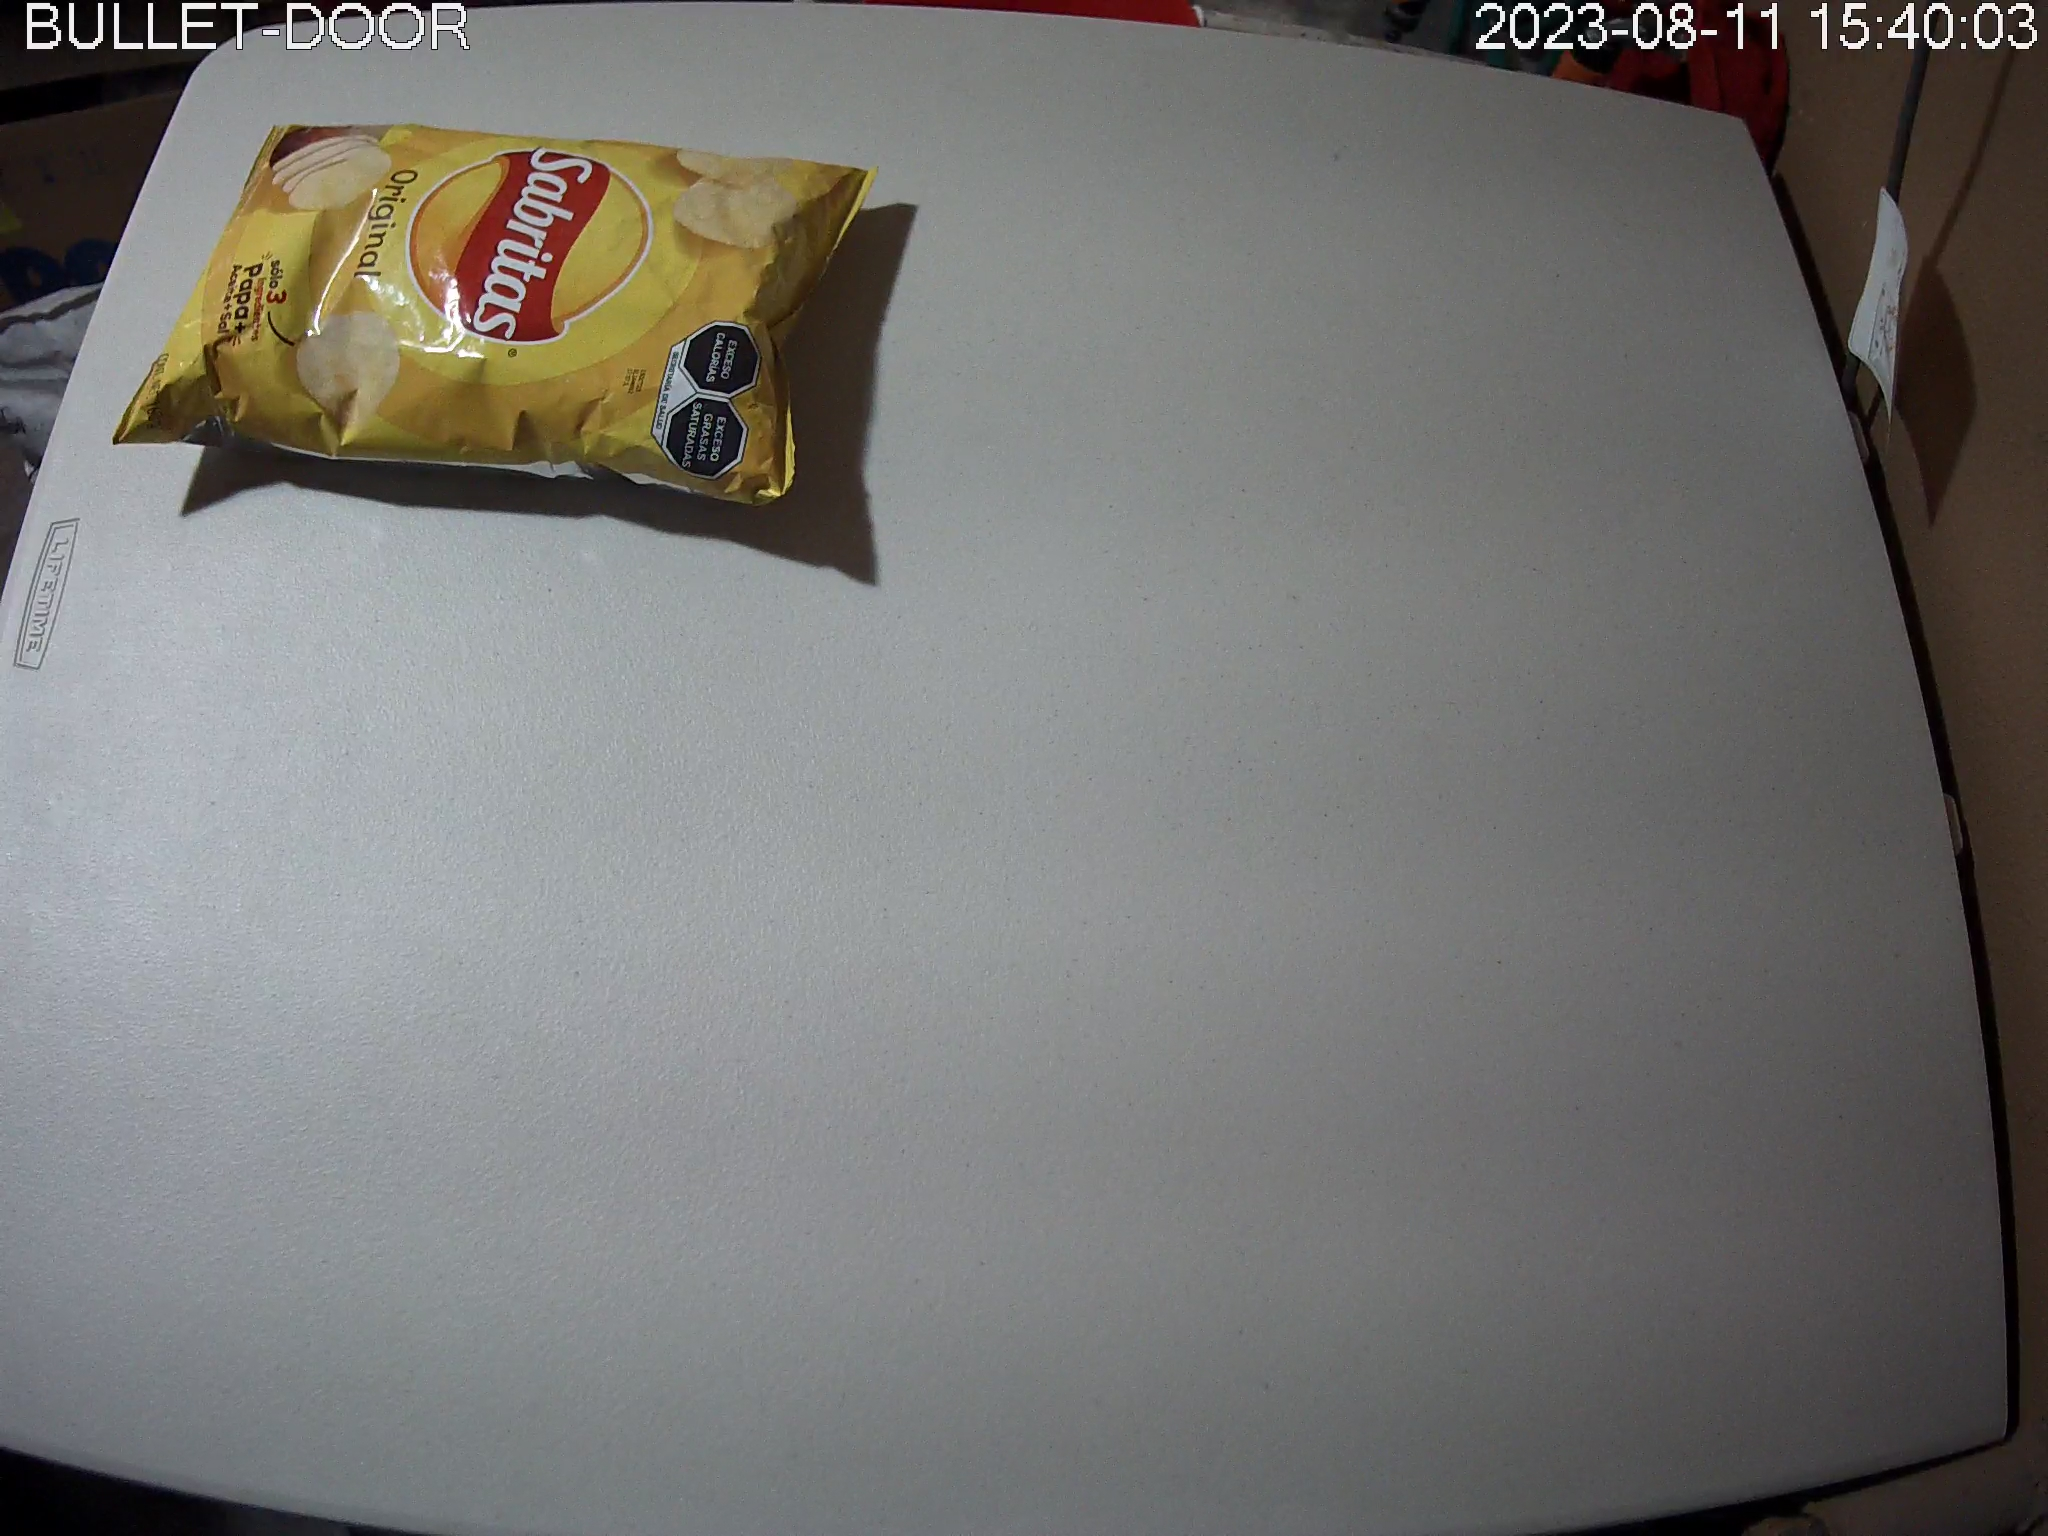Sabritas_160_F: (114, 119, 879, 510)
